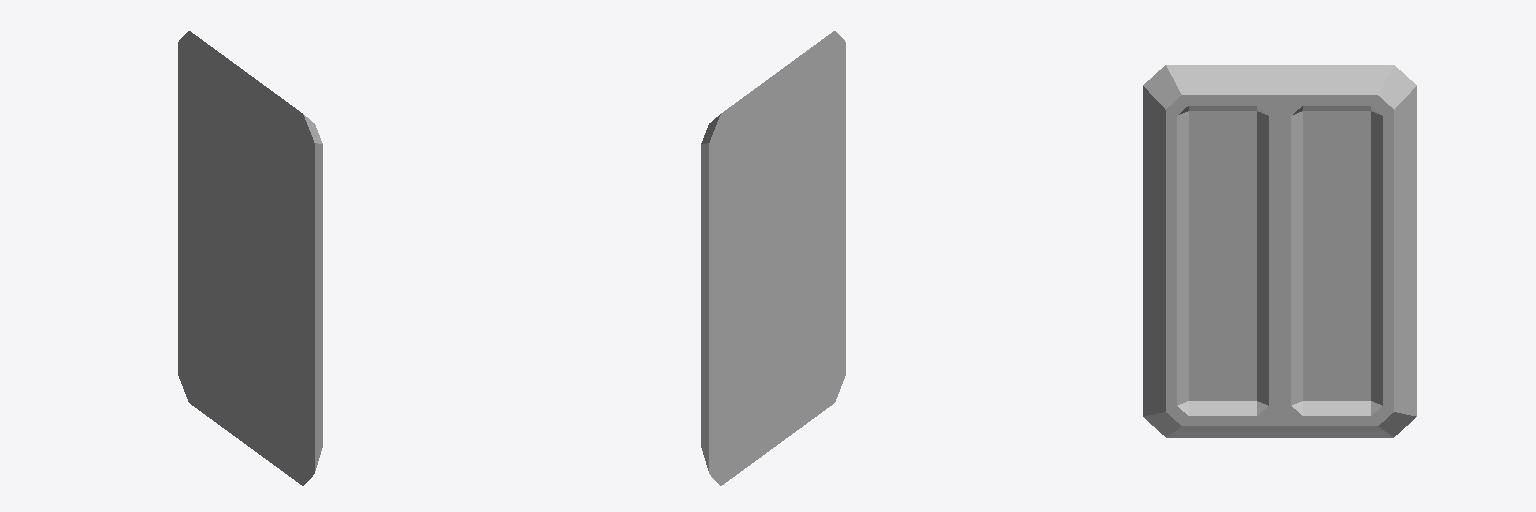
The model's file is Spacestation_Structure_Fuselage_Straight_Vertical_Windows.obj.
3 views of the same model, side by side, from view 1: azimuth 30°, elevation 25°; view 2: azimuth 150°, elevation 25°; view 3: azimuth 270°, elevation 25° (orthographic).
Visible parts, largest first — view 1: object2, object1; view 2: object1, object2; view 3: object2, object1.
Part boxes in pixels (x1,y1,x2,y2): object2: (178,31,322,485); object1: (189,80,302,436); object1: (721,72,834,436); object2: (701,31,845,485); object2: (1143,65,1416,437); object1: (1189,111,1370,400).
Size of the model in its own units: 0.05 by 0.9 by 0.6.